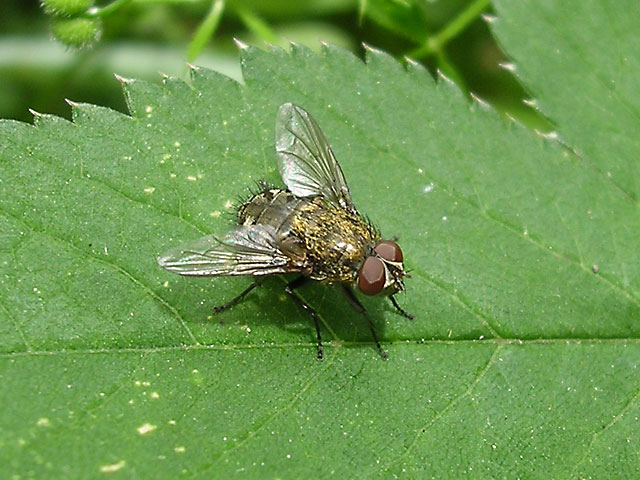green bottles fly: (154, 100, 438, 374)
